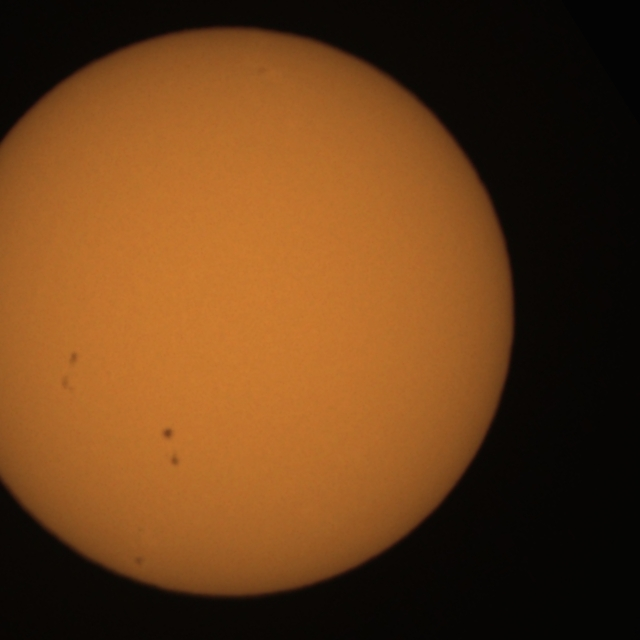sunspot: (60, 350, 80, 394), (160, 426, 176, 444), (168, 451, 181, 469), (67, 350, 79, 369), (132, 554, 145, 568)
